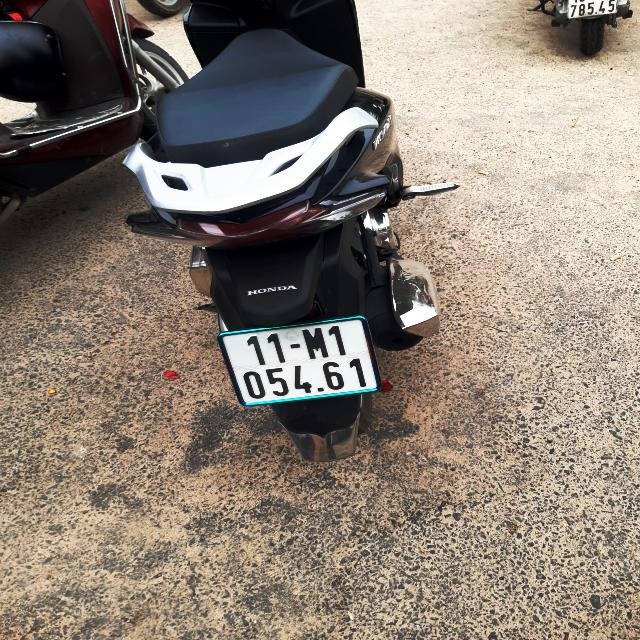license_plate: (209, 311, 389, 415)
